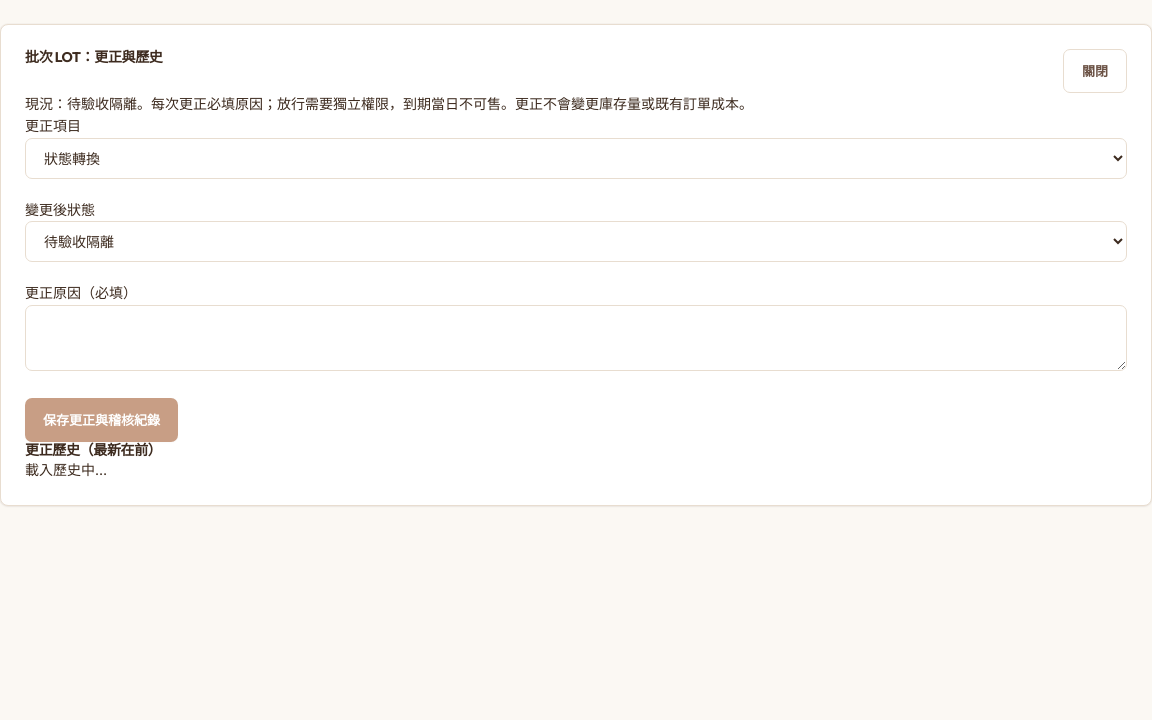
batch correction UI through real API clients › shows clear permission denial and preserves the draft without false success
Type "  Verified invoice  " into the text box labelled "更正原因（必填）" at (576, 338), box [25,305,1127,371]
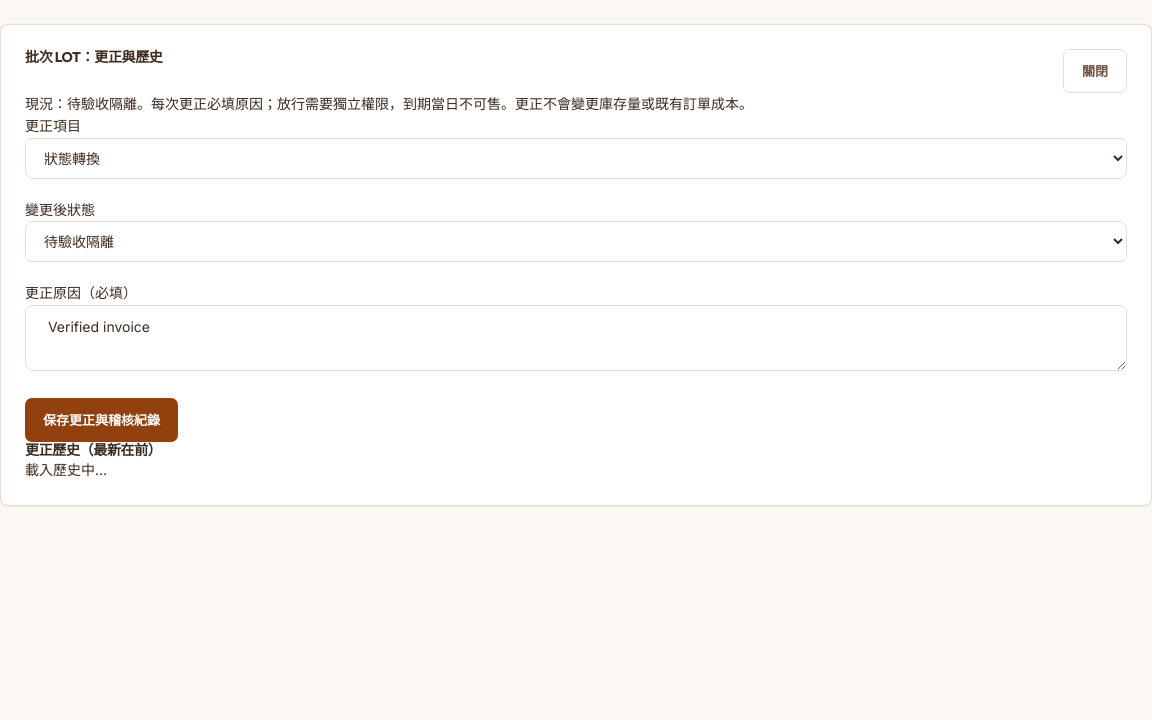
Click the button "保存更正與稽核紀錄" at (102, 420), box [25,398,178,442]
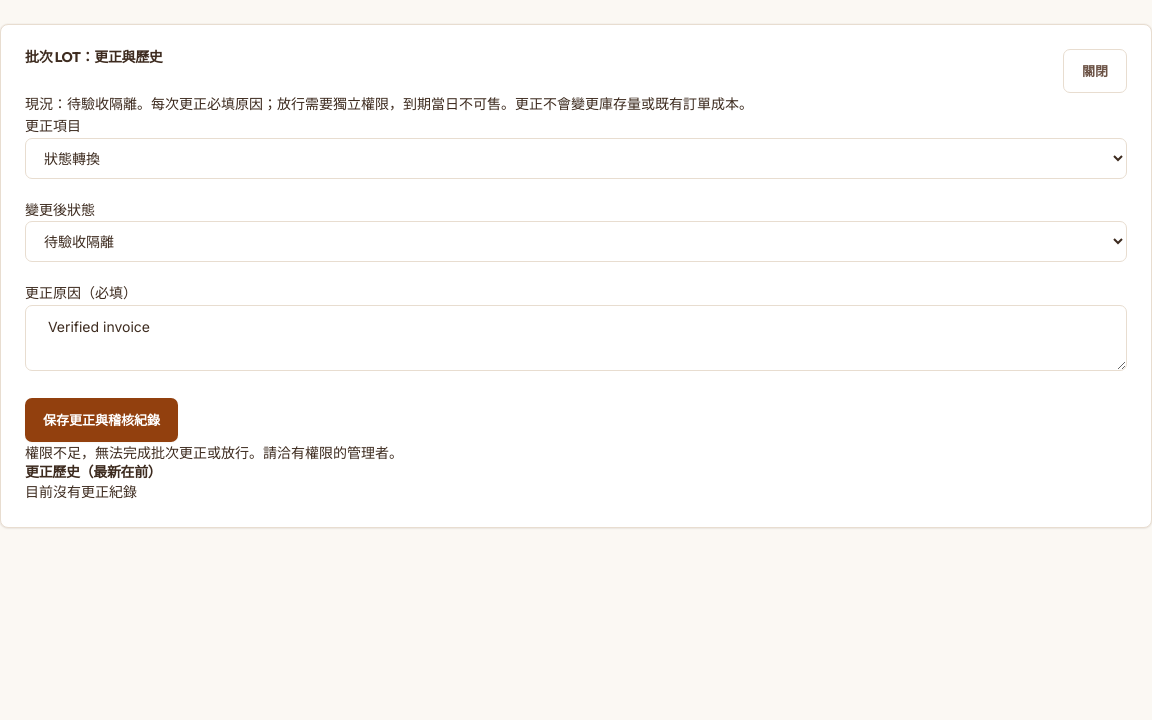
Result: the message shows "權限不足" at [25,444,403,461]
